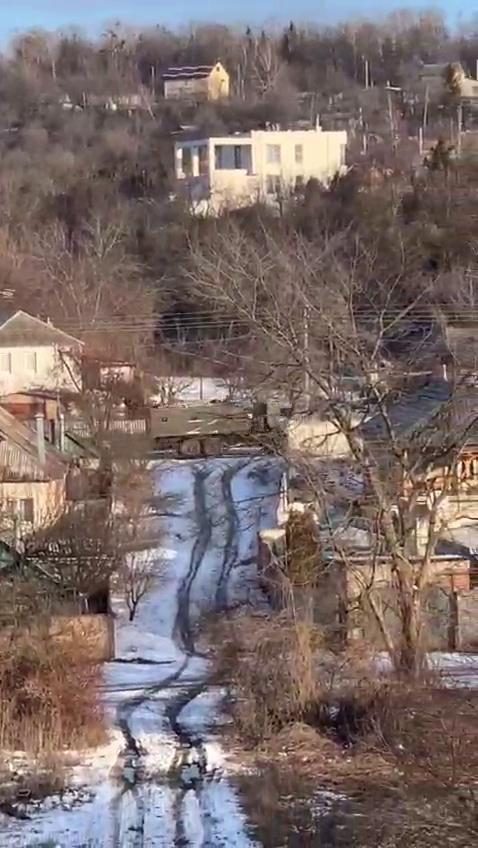truck: (144, 399, 290, 459)
